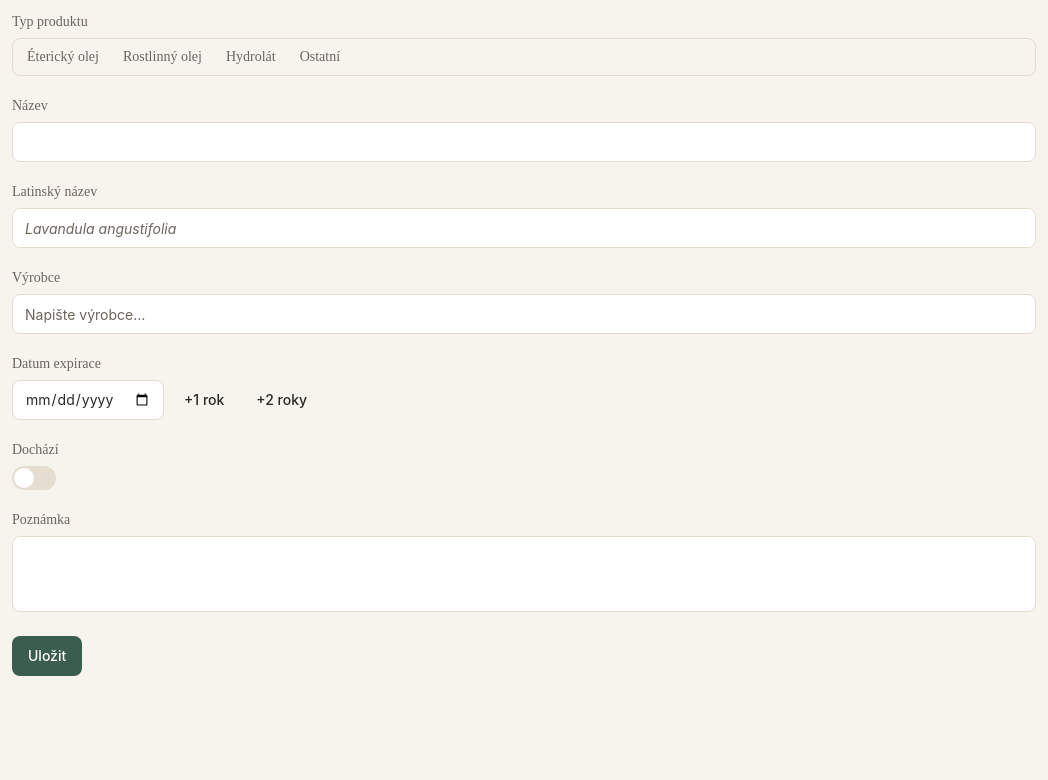
Test: OilForm › blocks submit and shows errors when required fields are missing
Click the button "Uložit".
click(47, 656)  # box [12,636,82,676]
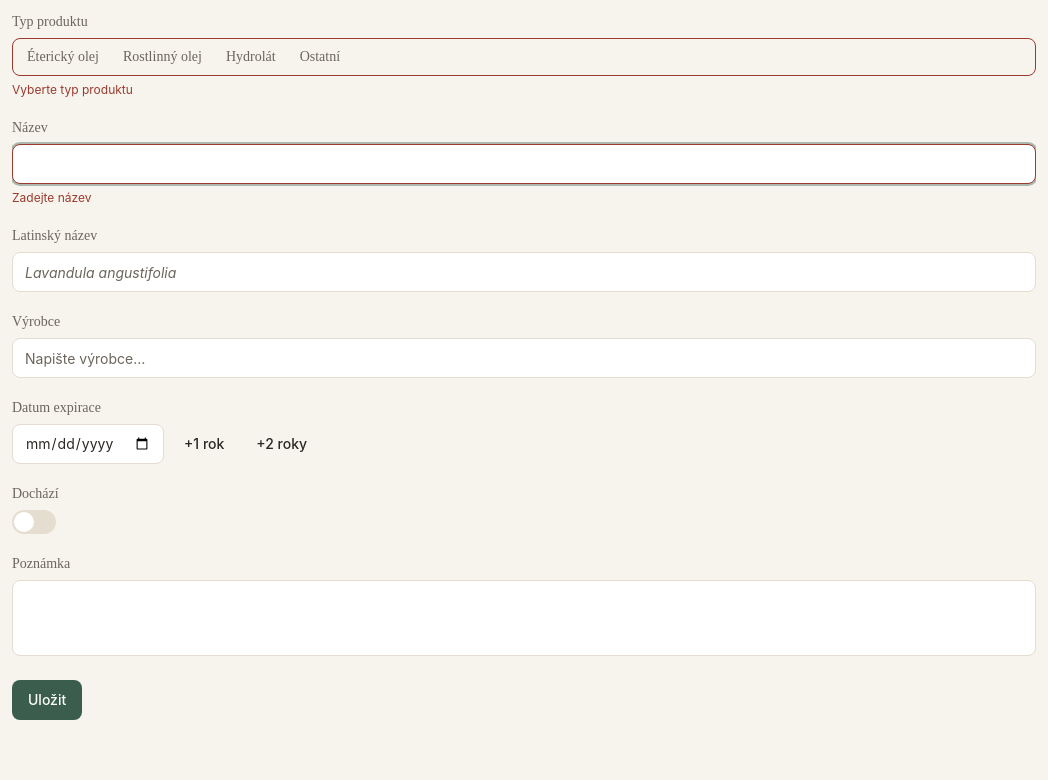
Now the text "Zadejte název" is shown, box [12,190,92,205]
Now the text "Vyberte typ produktu" is shown, box [12,82,133,97]
